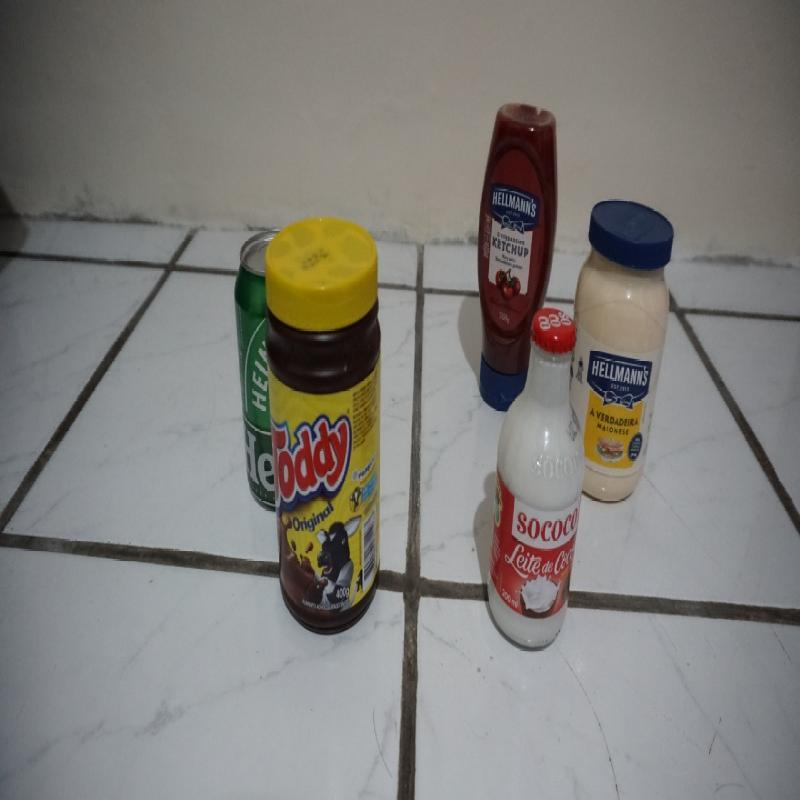Beer can: (229, 234, 272, 503)
Chocolate Powder: (272, 224, 382, 607)
Coconut Milk: (497, 310, 582, 656)
Ketchup: (477, 94, 558, 304)
Mayonnaise: (583, 190, 670, 500)
